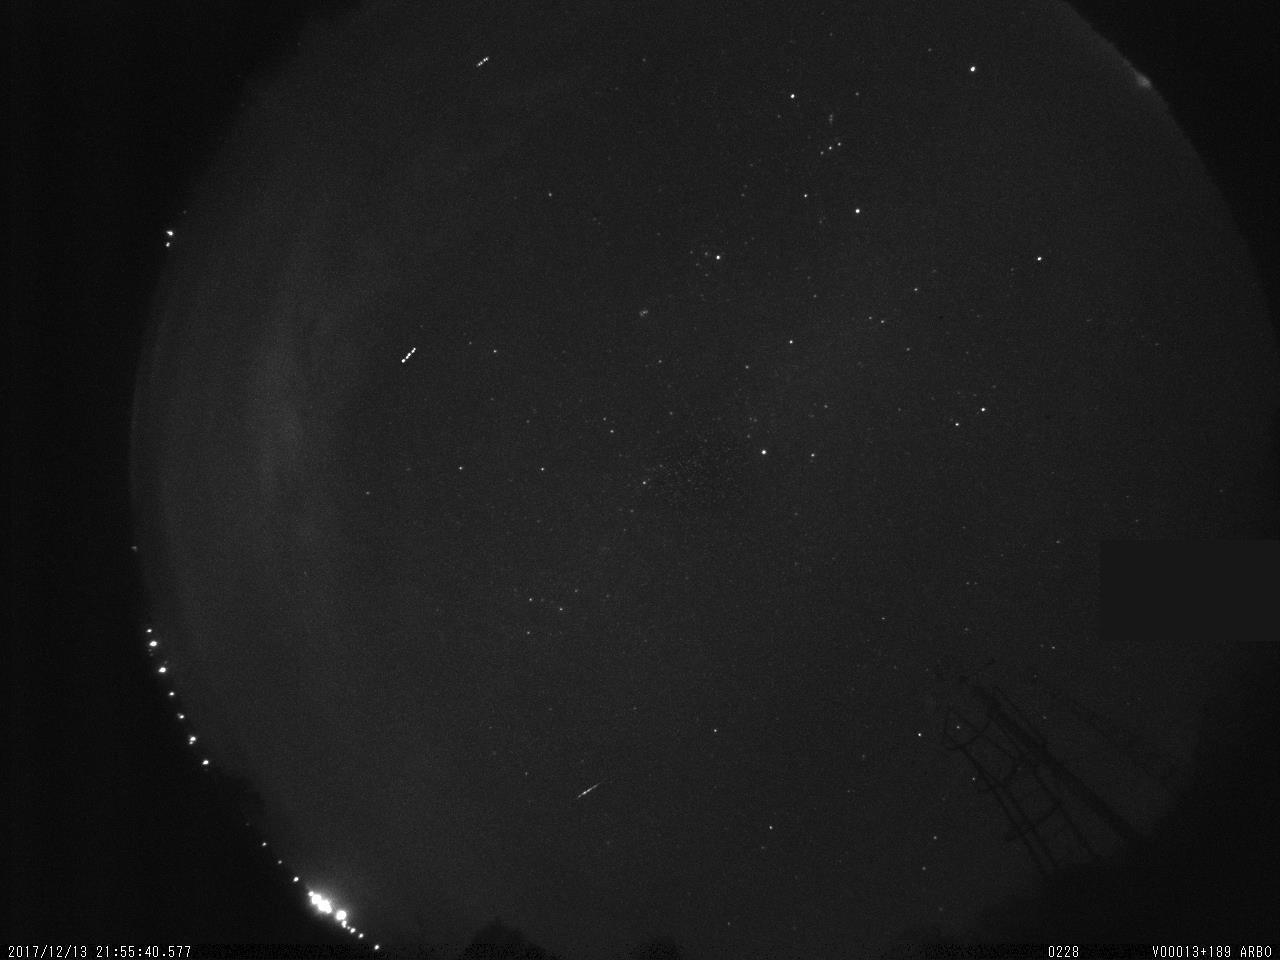Meteor: (570, 775, 608, 807)
